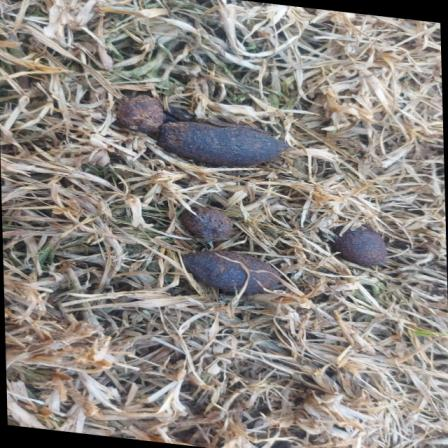dog-poop: (120, 81, 310, 169), (168, 197, 285, 298), (333, 212, 392, 269)
